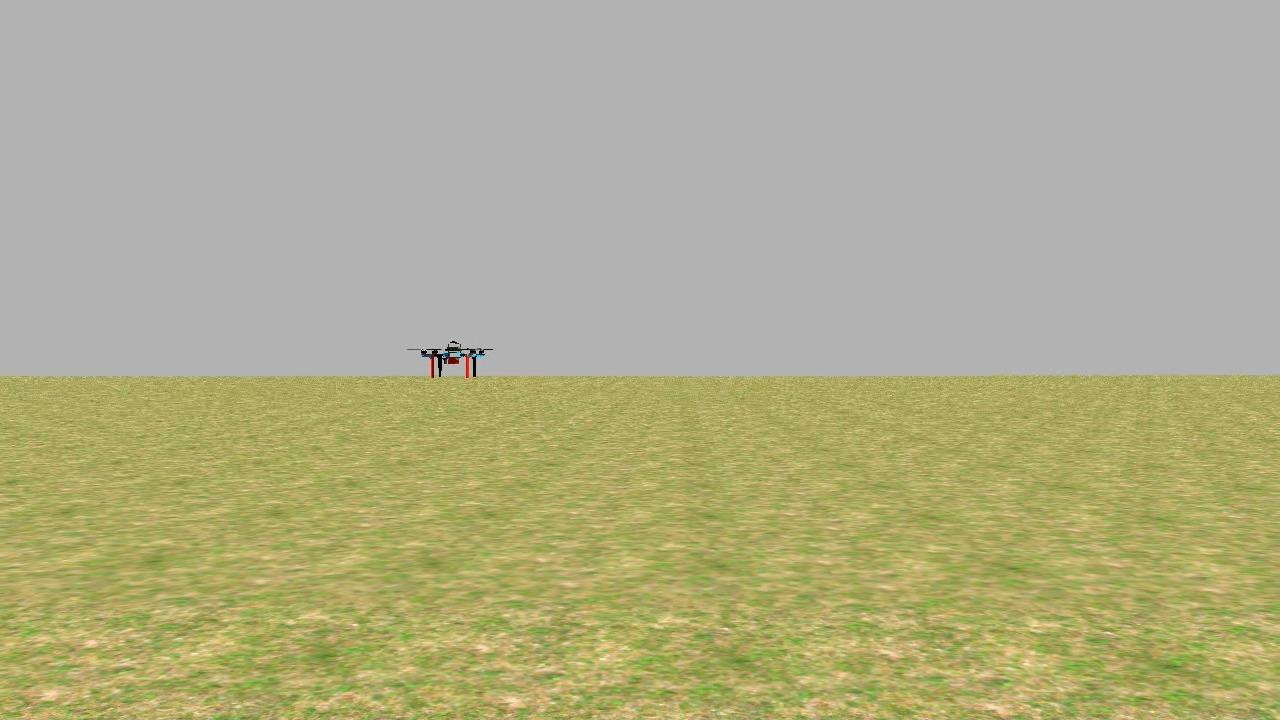UAV: (418, 336, 496, 384)
